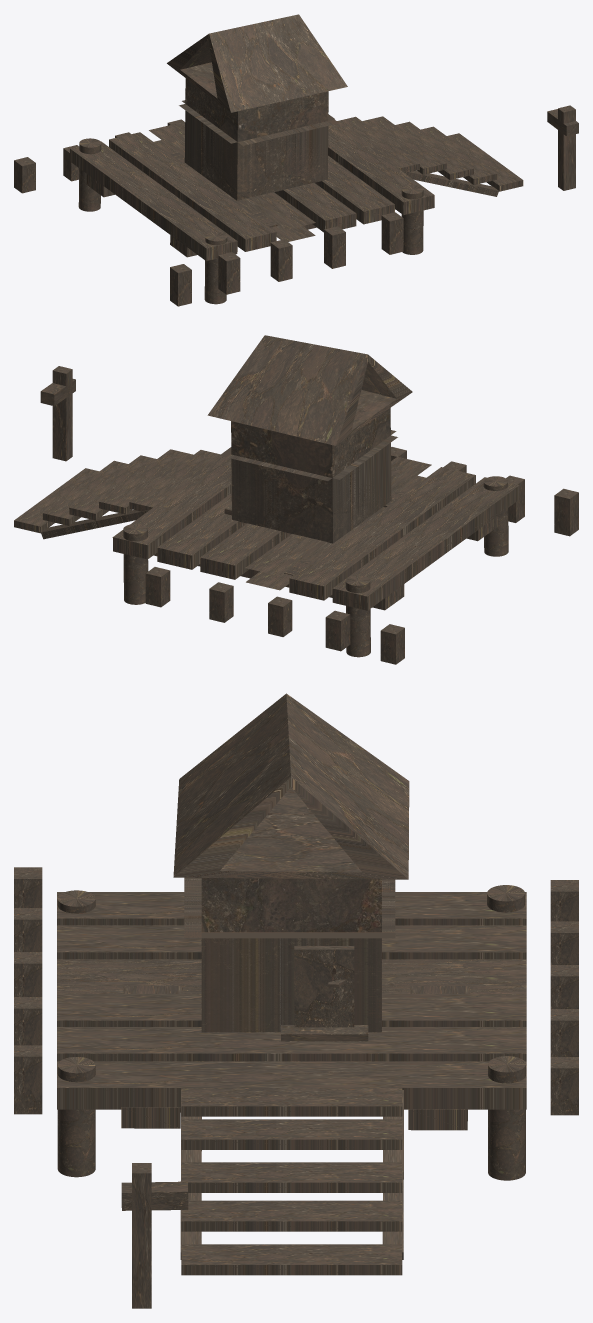
The model's file is building.obj.
The picture shows the model from 3 angles, top to bottom: view 1: azimuth 30°, elevation 25°; view 2: azimuth 150°, elevation 25°; view 3: azimuth 270°, elevation 25°; orthographic projection. The views are drawn at different scales.
Visible parts, largest first — view 1: Cube, Cylinder, Plane.014, Plane.013, Plane, Plane.012, Plane.001, Plane.002, Plane.006, Plane.003, Cube.004, Plane.007 (+16 smaller); view 2: Cube, Cylinder, Plane.014, Plane.013, Plane, Plane.012, Plane.001, Plane.002, Plane.006, Plane.003, Cube.004, Plane.007 (+16 smaller); view 3: Cylinder, Cube, Plane, Plane.001, Plane.013, Plane.002, Plane.012, Plane.014, Plane.009, Plane.008, Plane.006, Plane.007 (+23 smaller).
Boxes of the visible parts, x1,y1,x2,y2 form: Cube: [179, 78, 339, 200]; Cylinder: [167, 14, 347, 112]; Plane.014: [70, 141, 237, 260]; Plane.013: [109, 132, 276, 251]; Plane: [328, 124, 434, 214]; Plane.012: [149, 123, 315, 241]; Plane.001: [315, 155, 394, 224]; Plane.002: [274, 182, 356, 232]; Plane.006: [362, 116, 446, 174]; Plane.003: [337, 116, 419, 171]; Cube.004: [558, 105, 575, 190]; Plane.007: [395, 121, 473, 179]; Cube: [219, 408, 397, 543]; Cylinder: [207, 335, 412, 445]; Plane.014: [332, 477, 519, 610]; Plane.013: [289, 467, 475, 600]; Plane: [112, 457, 231, 559]; Plane.012: [245, 456, 431, 590]; Plane.001: [157, 493, 246, 569]; Plane.002: [200, 523, 290, 579]; Plane.006: [99, 449, 193, 514]; Plane.003: [129, 450, 222, 511]; Cube.004: [52, 366, 72, 461]; Plane.007: [69, 455, 156, 520]; Cylinder: [173, 693, 409, 879]; Cube: [184, 877, 395, 1032]; Plane: [57, 1061, 526, 1109]; Plane.001: [57, 1027, 526, 1061]; Plane.013: [57, 925, 526, 959]; Plane.002: [57, 994, 526, 1026]; Plane.012: [57, 959, 526, 993]; Plane.014: [57, 892, 526, 925]; Plane.009: [181, 1244, 402, 1275]; Plane.008: [181, 1200, 402, 1231]; Plane.006: [181, 1119, 402, 1149]; Plane.007: [181, 1162, 402, 1192].
Bounding box in the file's own units: 98.29 × 45.28 × 64.67.
